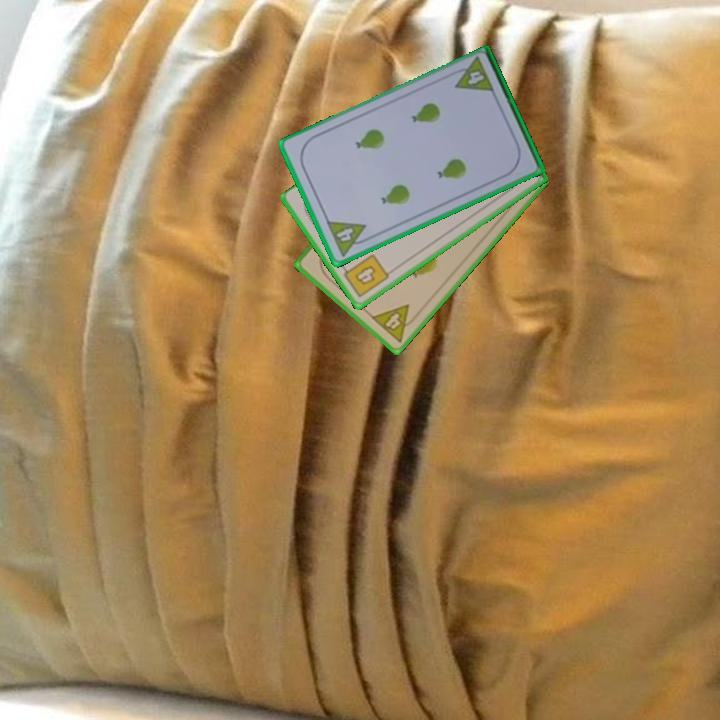4b: (338, 250, 392, 301)
4p: (367, 301, 422, 346), (323, 217, 374, 259), (447, 54, 497, 96)
